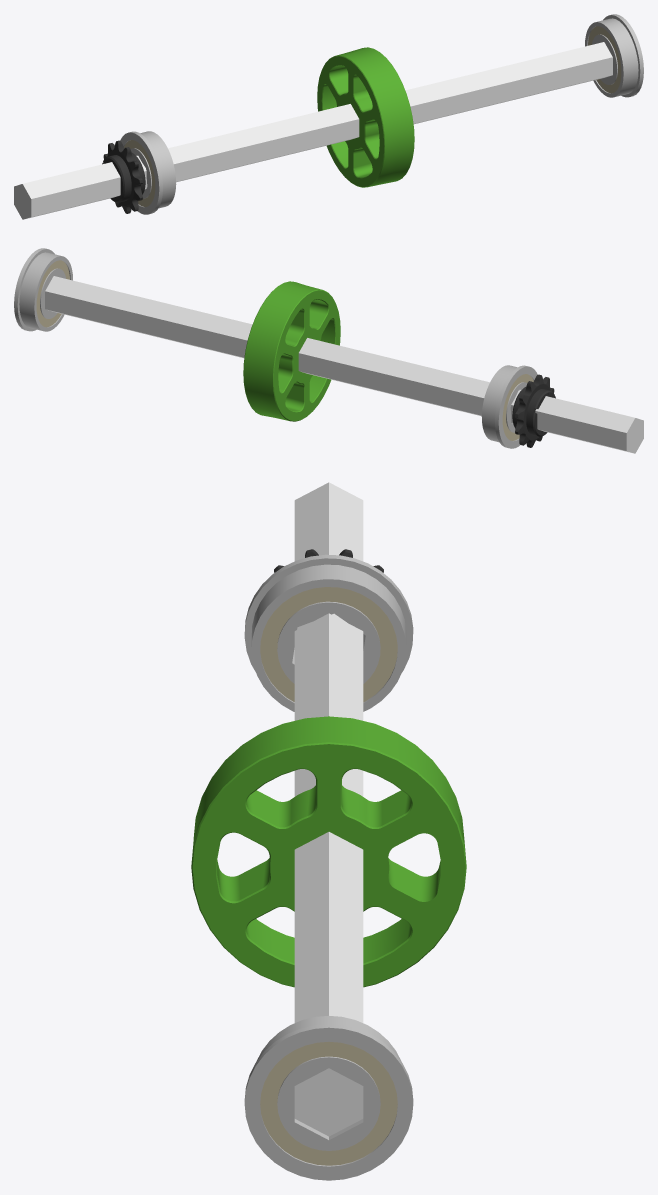
3 views of the same model, one above another, from view 1: azimuth 30°, elevation 25°; view 2: azimuth 150°, elevation 25°; view 3: azimuth 270°, elevation 25° (orthographic). The views are drawn at different scales.
Visible parts, largest first — view 1: 1/2" Hex (10" L, 7075 Aluminum), 2" Compliant Wheel (35A, 3/4" Wide, 1/2" Hex Stretch Bore), 1/2" Hex Bore Bearing (1.125" OD, 0.313" WD, Shielded, Flang (×2), 12t Steel Sprocket (#25, 1/2" Rounded Hex Bore, Double Hub); view 2: 1/2" Hex (10" L, 7075 Aluminum), 2" Compliant Wheel (35A, 3/4" Wide, 1/2" Hex Stretch Bore), 1/2" Hex Bore Bearing (1.125" OD, 0.313" WD, Shielded, Flang (×2), 12t Steel Sprocket (#25, 1/2" Rounded Hex Bore, Double Hub); view 3: 2" Compliant Wheel (35A, 3/4" Wide, 1/2" Hex Stretch Bore), 1/2" Hex Bore Bearing (1.125" OD, 0.313" WD, Shielded, Flang (×2), 1/2" Hex (10" L, 7075 Aluminum).
Part boxes in pixels (x1,y1,x2,y2): 1/2" Hex (10" L, 7075 Aluminum): (14,42,612,219); 2" Compliant Wheel (35A, 3/4" Wide, 1/2" Hex Stretch Bore): (317,47,414,187); 1/2" Hex Bore Bearing (1.125" OD, 0.313" WD, Shielded, Flang (×2): (120,14,643,214); 12t Steel Sprocket (#25, 1/2" Rounded Hex Bore, Double Hub): (102,140,145,213); 1/2" Hex (10" L, 7075 Aluminum): (45,276,643,453); 2" Compliant Wheel (35A, 3/4" Wide, 1/2" Hex Stretch Bore): (243,281,340,421); 1/2" Hex Bore Bearing (1.125" OD, 0.313" WD, Shielded, Flang (×2): (14,248,537,448); 12t Steel Sprocket (#25, 1/2" Rounded Hex Bore, Double Hub): (512,374,555,447); 2" Compliant Wheel (35A, 3/4" Wide, 1/2" Hex Stretch Bore): (191,716,466,987); 1/2" Hex Bore Bearing (1.125" OD, 0.313" WD, Shielded, Flang (×2): (244,554,413,1180); 1/2" Hex (10" L, 7075 Aluminum): (294,482,363,1136).
Size of the model in its own units: 0.2556 by 0.0508 by 0.0508.
